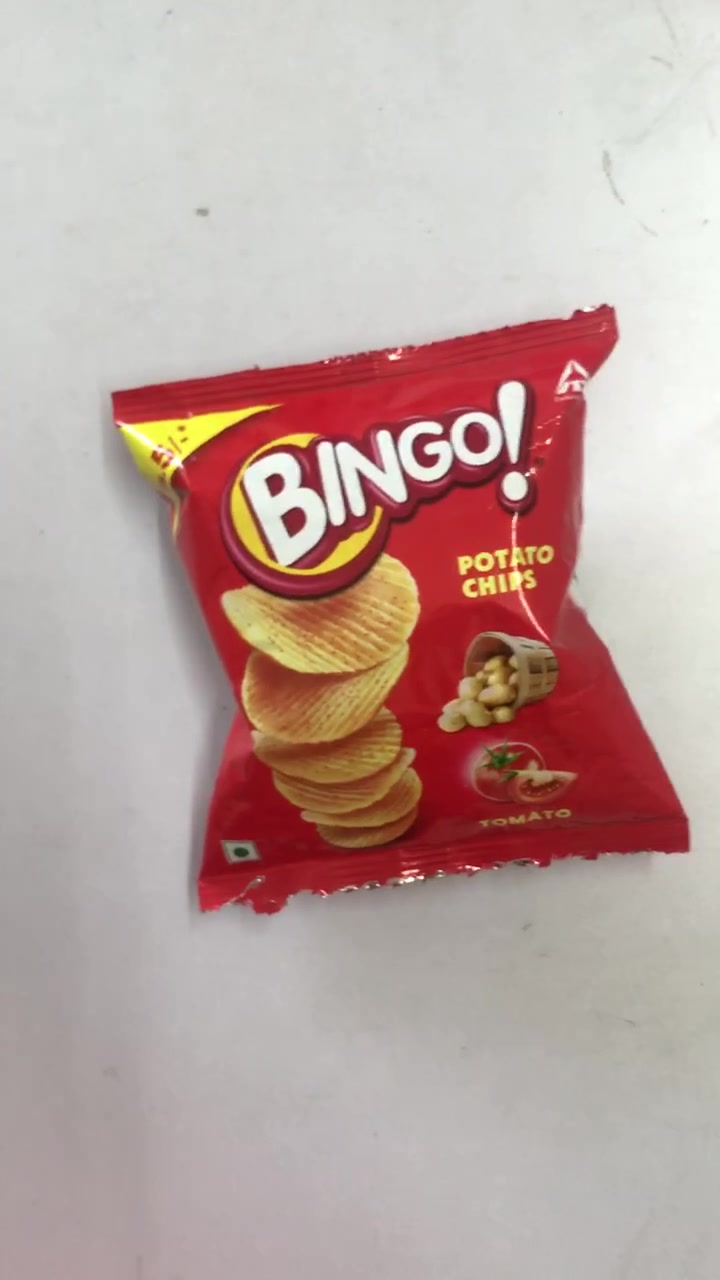Bingo: (126, 357, 680, 866)
